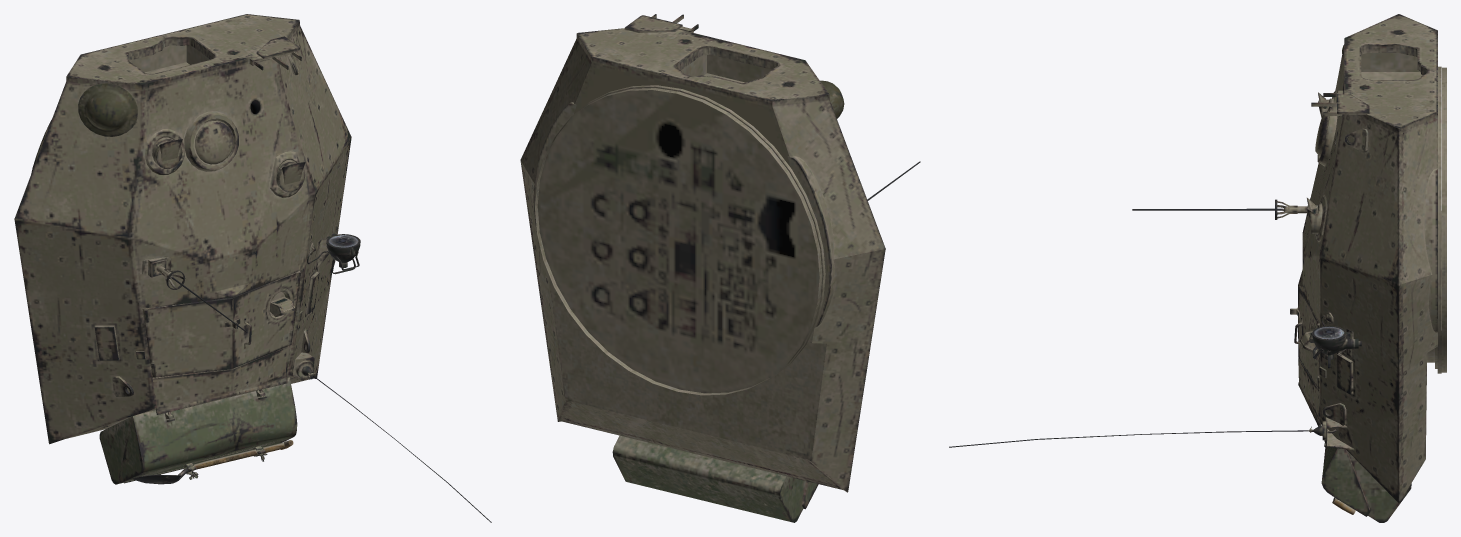
Rendered from Turret_02.glb.
The picture shows the model from 3 angles, left to right: view 1: azimuth 30°, elevation 25°; view 2: azimuth 150°, elevation 25°; view 3: azimuth 270°, elevation 25°; orthographic projection. The views are drawn at different scales.
Parts seen in each view (by area): view 1: set_0_group_0; view 2: set_0_group_0; view 3: set_0_group_0.
Boxes of the visible parts, box(x1,y1,x2,y2) form: set_0_group_0: box(14, 14, 491, 522); set_0_group_0: box(520, 14, 920, 522); set_0_group_0: box(949, 14, 1446, 522).
Size of the model in its own units: 2.06 by 2.4 by 2.61.
Materials: 1 (1 with a texture image).
